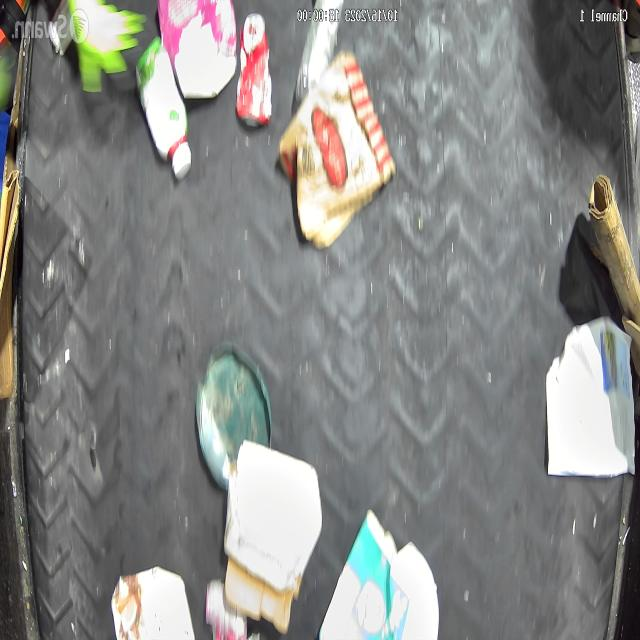can: (238, 11, 272, 128)
milk_jug: (222, 438, 323, 595), (544, 314, 640, 476)
non_white_jug: (318, 508, 440, 640), (156, 0, 238, 101)
